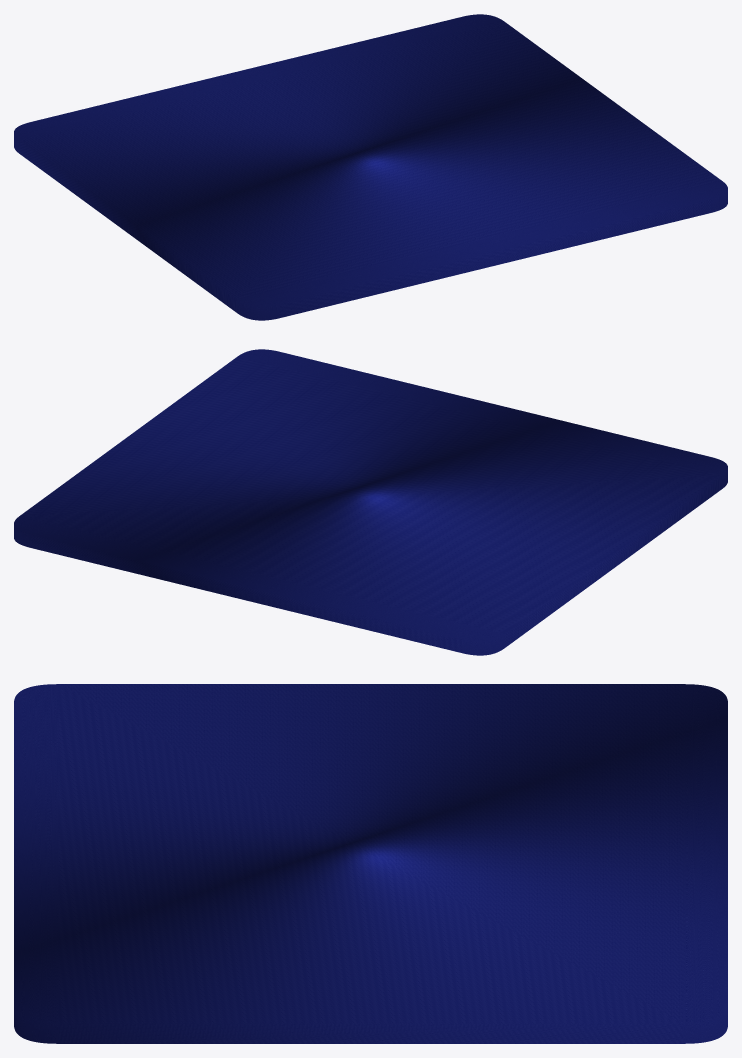
Rendered from Mouse_pad.glb.
3 views of the same model, one above another, from view 1: azimuth 30°, elevation 25°; view 2: azimuth 150°, elevation 25°; view 3: azimuth 270°, elevation 25° (orthographic). The views are drawn at different scales.
Parts seen in each view (by area): view 1: Rectangle; view 2: Rectangle; view 3: Rectangle.
Boxes of the visible parts, bbox=[...] form: Rectangle: bbox=[14, 14, 727, 320]; Rectangle: bbox=[14, 349, 727, 655]; Rectangle: bbox=[14, 684, 727, 1043].
Size of the model in its own units: 180 by 5 by 160.
1 material, 1 textured.
